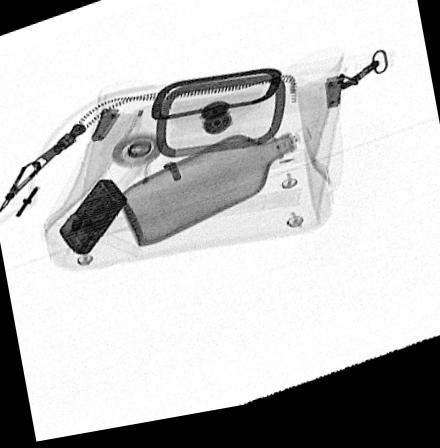Lighter: (58, 182, 128, 257)
